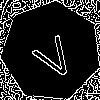V: (26, 26, 79, 83)
